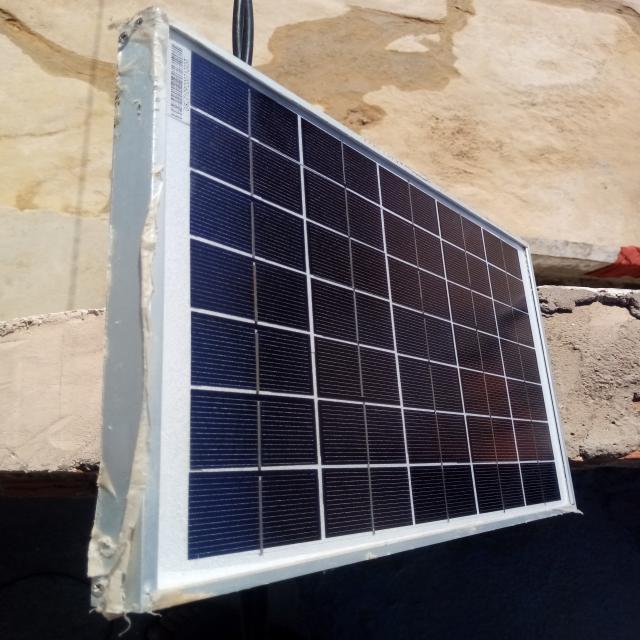no faulty: (148, 14, 570, 611)
